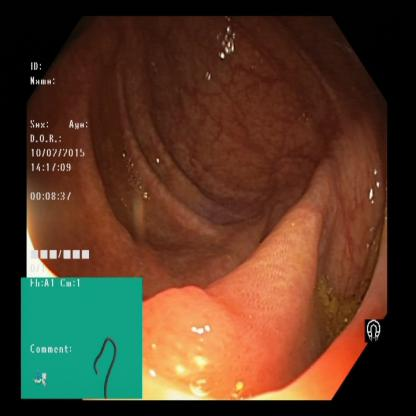Polyps: (145, 294, 295, 397)
